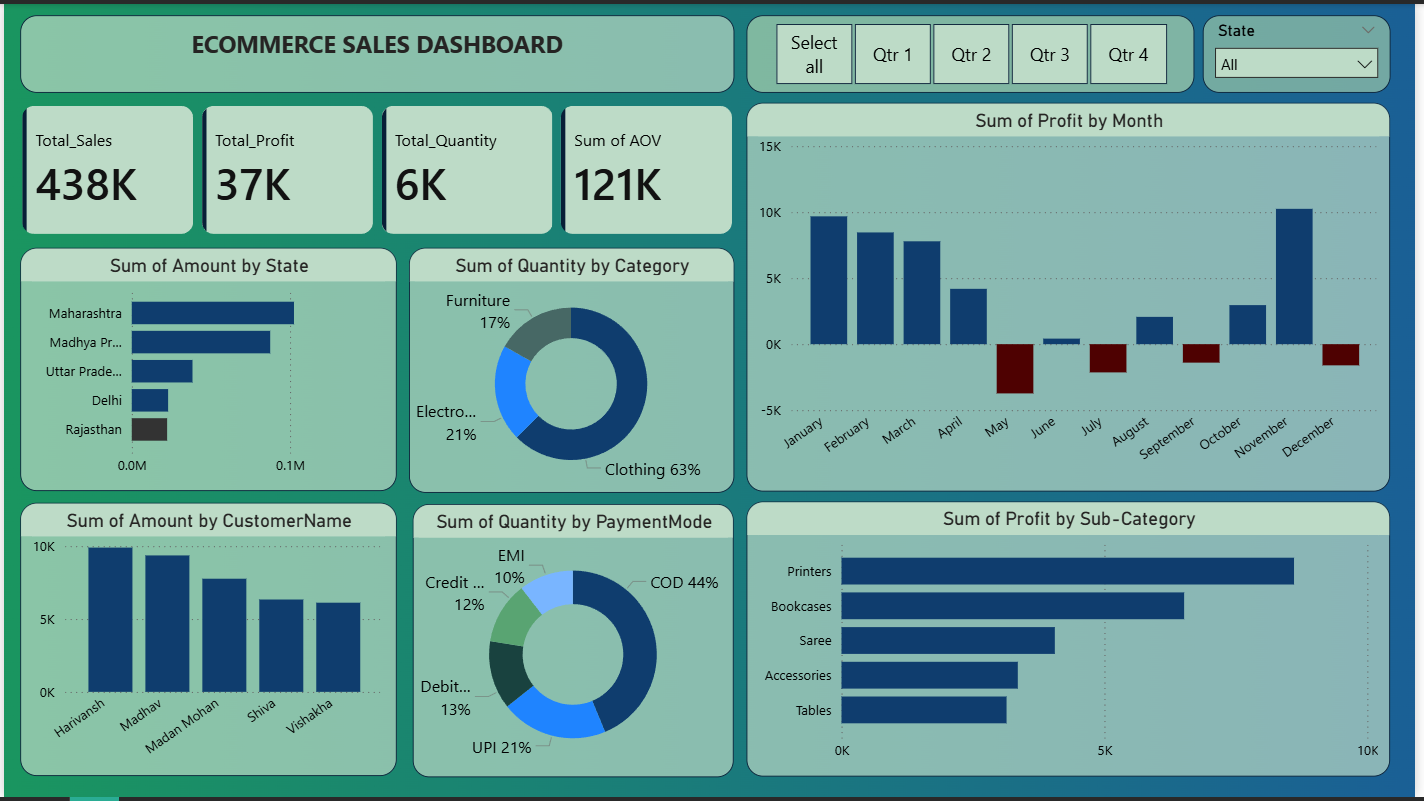

The dashboard page shown, as its layout file describes it:
{"tool":"powerbi","page":{"name":"Page 1","canvas":[1280,720],"ordinal":0},"visuals":[{"type":"textbox","box":[14.7,10.2,647.6,70.3],"z":0},{"type":"columnChart","fields":{"Category":["Orders.Order Date.Variation.Date Hierarchy.Month"],"Y":["Details.Profit"]},"box":[673.7,89.6,584.1,352.7],"z":1000},{"type":"barChart","fields":{"Category":["Details.Sub-Category"],"Y":["Details.Profit"]},"box":[673.7,451.4,584.1,249.5],"z":2000},{"type":"donutChart","fields":{"Category":["Details.Category"],"Y":["Details.Quantity"]},"box":[367.5,221.2,294.9,222.3],"z":3000},{"type":"donutChart","fields":{"Y":["Details.Quantity"],"Category":["Details.PaymentMode"]},"box":[370.9,453.7,291.5,248.4],"z":4000},{"type":"barChart","fields":{"Category":["Orders.State"],"Y":["Details.Amount"]},"box":[14.7,221.2,341.4,221.2],"z":6000},{"type":"columnChart","fields":{"Category":["Orders.CustomerName"],"Y":["Details.Amount"]},"box":[14.7,452.6,341.4,248.4],"z":7000},{"type":"cardVisual","fields":{"Data":["Details.Total_Sales","Details.Total_Profit","Details.Total_Quantity","Details.AOV"]},"box":[4.5,80.5,669.2,140.6],"z":7500},{"type":"slicer","fields":{"Values":["Orders.Order Date.Variation.Date Hierarchy.Quarter"]},"box":[673.7,10.2,406.1,70.3],"z":8000},{"type":"slicer","fields":{"Values":["Orders.State"]},"box":[1087.7,10.2,170.1,70.3],"z":9000}]}

Visuals, with their boxes in screenshot pixels (x1, y1, x2, y2), scaled from the page's 1280x720 canvas onto the 1424x801 screenshot:
textbox: l=16, t=11, r=737, b=90
columnChart - Orders.Order Date.Variation.Date Hierarchy.Month x Details.Profit: l=749, t=100, r=1399, b=492
barChart - Details.Sub-Category x Details.Profit: l=749, t=502, r=1399, b=780
donutChart - Details.Category x Details.Quantity: l=409, t=246, r=737, b=493
donutChart - Details.Quantity x Details.PaymentMode: l=413, t=505, r=737, b=781
barChart - Orders.State x Details.Amount: l=16, t=246, r=396, b=492
columnChart - Orders.CustomerName x Details.Amount: l=16, t=504, r=396, b=780
cardVisual - Details.Total_Sales x Details.Total_Profit: l=5, t=90, r=749, b=246
slicer - Orders.Order Date.Variation.Date Hierarchy.Quarter: l=749, t=11, r=1201, b=90
slicer - Orders.State: l=1210, t=11, r=1399, b=90
